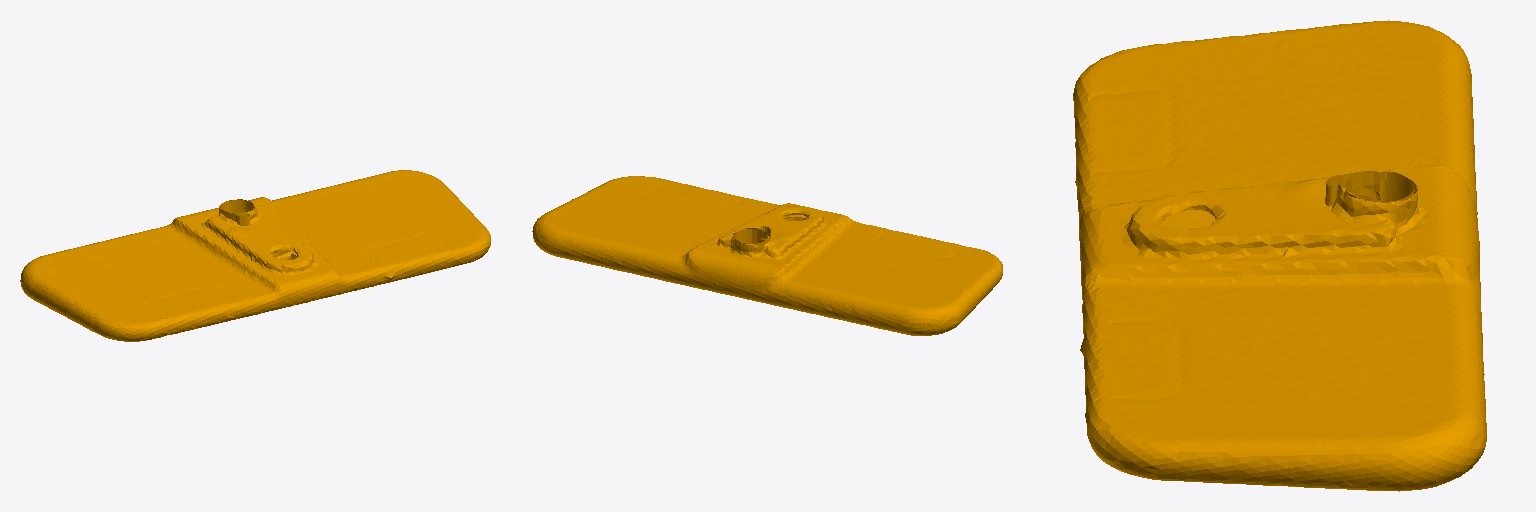
robot.urdf — BottomWing:
<?xml version="1.0"?>
<robot name="BottomWing">
  <link name="base">
   <visual>
     <origin xyz="0 0 0" rpy="0 0 0" />
       <geometry>
        <mesh filename="BottomWing.stl" scale="1.0 1.0 1.0"/>
      </geometry>
   </visual>
   <collision>
     <origin xyz="0 0 0" rpy="0 0 0" />
       <geometry>
        <mesh filename="BottomWing.stl" scale="1.0 1.0 1.0"/>
       </geometry>
    </collision>
  </link>
</robot>

--- Facts derived from the render (not from the file) ---
The picture shows the robot from 3 angles, left to right: view 1: azimuth 30°, elevation 25°; view 2: azimuth 150°, elevation 25°; view 3: azimuth 270°, elevation 25°; orthographic projection.
Model BottomWing with 1 links and 0 joints (none), rooted at base, posed all joints at 0.
Visible links, largest first — view 1: base; view 2: base; view 3: base.
Boxes of the visible links, x1,y1,x2,y2 form: base: (20,170,490,341); base: (532,176,1002,335); base: (1073,20,1486,491).
Size in the robot's own frame: 0.2543 by 0.104 by 0.0291 metres.
1 mesh visuals loaded from 1 distinct referenced files (1 binary STL).
